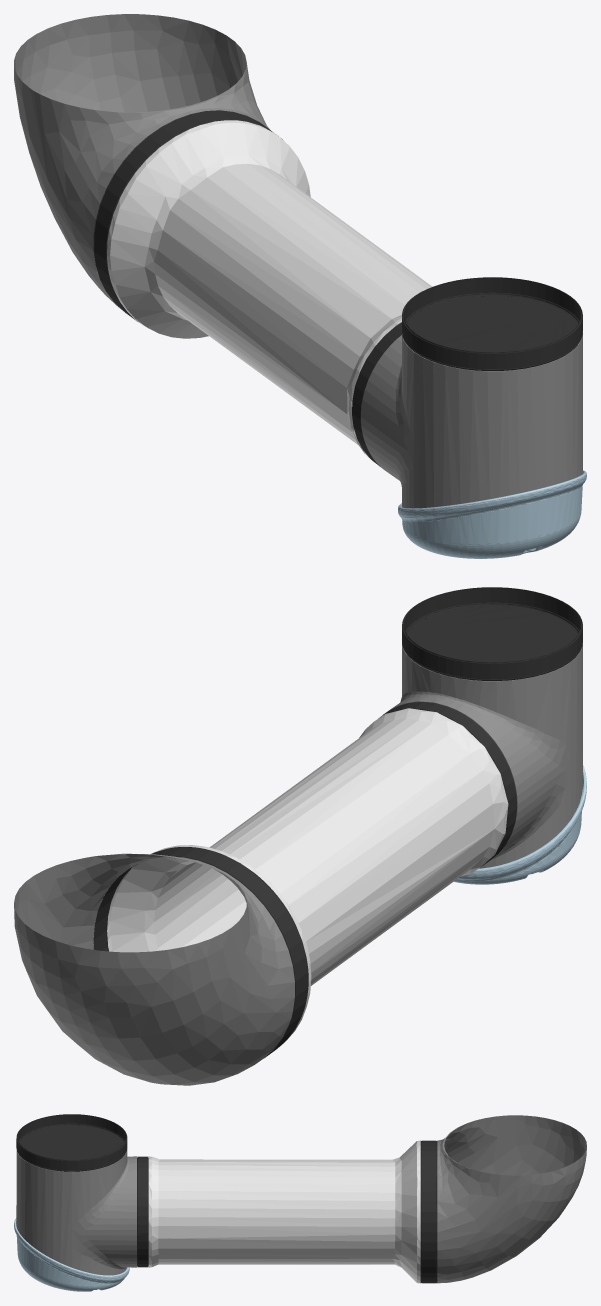
The model's file is forearm.dae.
3 renders of one model, top to bottom at view 1: azimuth 30°, elevation 25°; view 2: azimuth 150°, elevation 25°; view 3: azimuth 270°, elevation 25°, orthographic. The views are drawn at different scales.
Visible parts, largest first — view 1: eSeries_UR10e_031, eSeries_UR10e_015, eSeries_UR10e_018, eSeries_UR10e_031.001, eSeries_UR10e_020, eSeries_UR10e_017, eSeries_UR10e_016, eSeries_UR10e_019, eSeries_UR10e_031.002; view 2: eSeries_UR10e_031, eSeries_UR10e_015, eSeries_UR10e_018, eSeries_UR10e_020, eSeries_UR10e_031.001, eSeries_UR10e_016, eSeries_UR10e_031.002, eSeries_UR10e_017, eSeries_UR10e_019; view 3: eSeries_UR10e_031, eSeries_UR10e_015, eSeries_UR10e_018, eSeries_UR10e_020, eSeries_UR10e_031.001, eSeries_UR10e_016, eSeries_UR10e_017, eSeries_UR10e_019, eSeries_UR10e_031.002.
Part boxes in pixels (x1,y1,x2,y2): eSeries_UR10e_031: [154, 163, 432, 444]; eSeries_UR10e_015: [14, 14, 269, 309]; eSeries_UR10e_018: [361, 332, 582, 508]; eSeries_UR10e_031.001: [107, 120, 310, 338]; eSeries_UR10e_020: [402, 277, 582, 370]; eSeries_UR10e_017: [398, 470, 586, 558]; eSeries_UR10e_016: [93, 110, 282, 328]; eSeries_UR10e_019: [352, 322, 401, 466]; eSeries_UR10e_031.002: [347, 315, 401, 461]; eSeries_UR10e_031: [154, 718, 494, 985]; eSeries_UR10e_015: [14, 853, 294, 1085]; eSeries_UR10e_018: [383, 644, 582, 868]; eSeries_UR10e_020: [402, 587, 582, 680]; eSeries_UR10e_031.001: [107, 845, 311, 1043]; eSeries_UR10e_016: [93, 847, 308, 1057]; eSeries_UR10e_031.002: [359, 708, 508, 876]; eSeries_UR10e_017: [454, 765, 586, 884]; eSeries_UR10e_019: [378, 702, 517, 866]; eSeries_UR10e_031: [158, 1159, 395, 1264]; eSeries_UR10e_015: [437, 1115, 586, 1283]; eSeries_UR10e_018: [16, 1149, 136, 1275]; eSeries_UR10e_020: [16, 1114, 127, 1171]; eSeries_UR10e_031.001: [392, 1140, 420, 1283]; eSeries_UR10e_016: [420, 1140, 437, 1283]; eSeries_UR10e_017: [14, 1218, 129, 1291]; eSeries_UR10e_019: [137, 1156, 148, 1267]; eSeries_UR10e_031.002: [148, 1156, 159, 1267].
Bounding box in the file's own units: 0.116 × 0.4649 × 0.1249.
